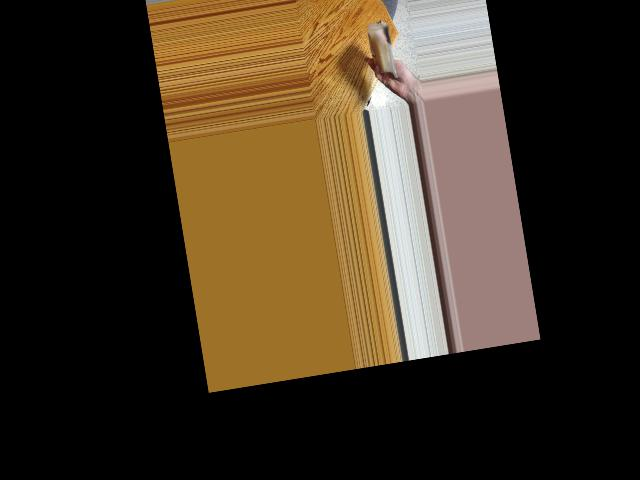cheese: (364, 22, 407, 78)
